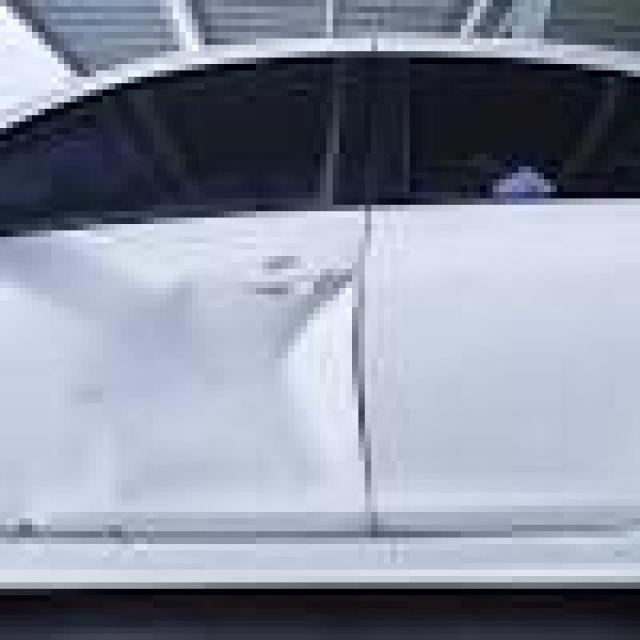minor: (106, 247, 355, 532)
